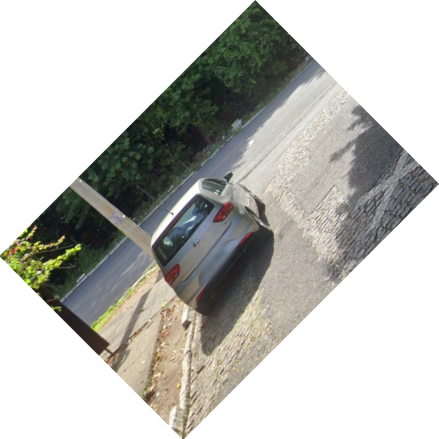car: (144, 167, 279, 324)
